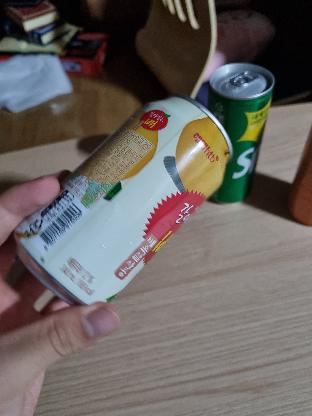Can: (13, 96, 233, 307)
